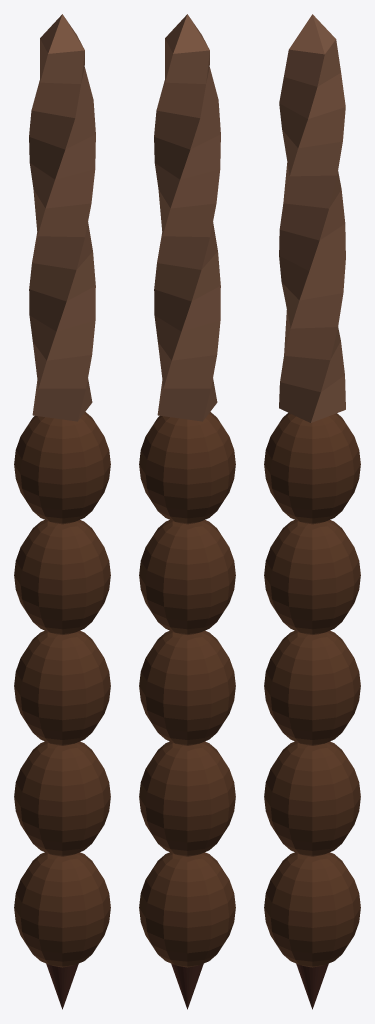
The model's file is Wand 252.glb.
3 views of the same model, side by side, from view 1: azimuth 30°, elevation 25°; view 2: azimuth 210°, elevation 25°; view 3: azimuth 270°, elevation 25° (orthographic).
Visible parts, largest first — view 1: GeneratedWand; view 2: GeneratedWand; view 3: GeneratedWand.
Part boxes in pixels (left/top/right/bottom): GeneratedWand: left=14, top=14, right=110, bottom=1009; GeneratedWand: left=139, top=14, right=235, bottom=1009; GeneratedWand: left=264, top=14, right=360, bottom=1009.
Size of the model in its own units: 0.0447 by 0.5097 by 0.0449.
